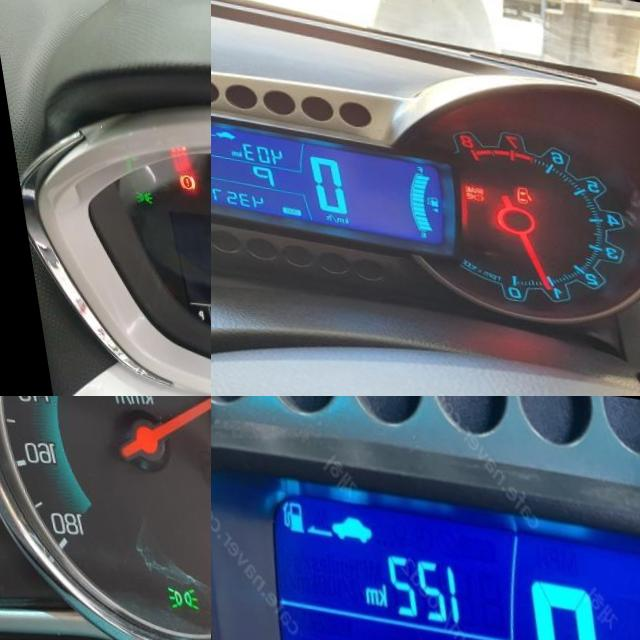Doors: (508, 176, 528, 196)
SideLamp: (151, 575, 185, 605), (127, 187, 145, 202)
